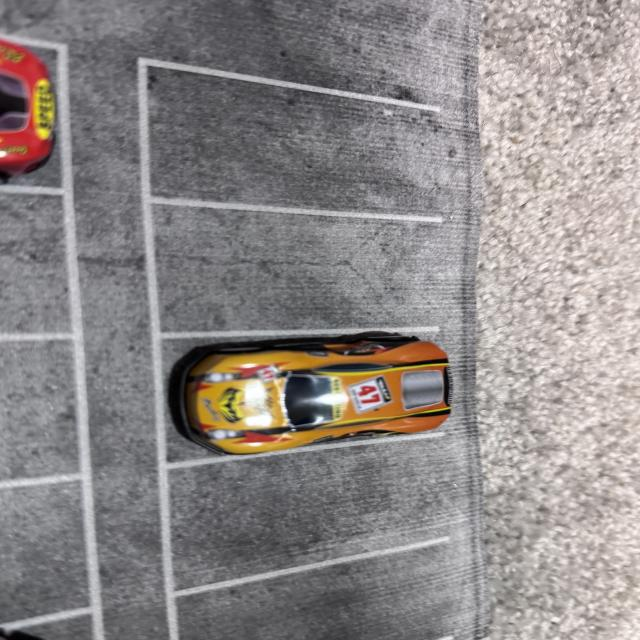car: (128, 284, 486, 454)
